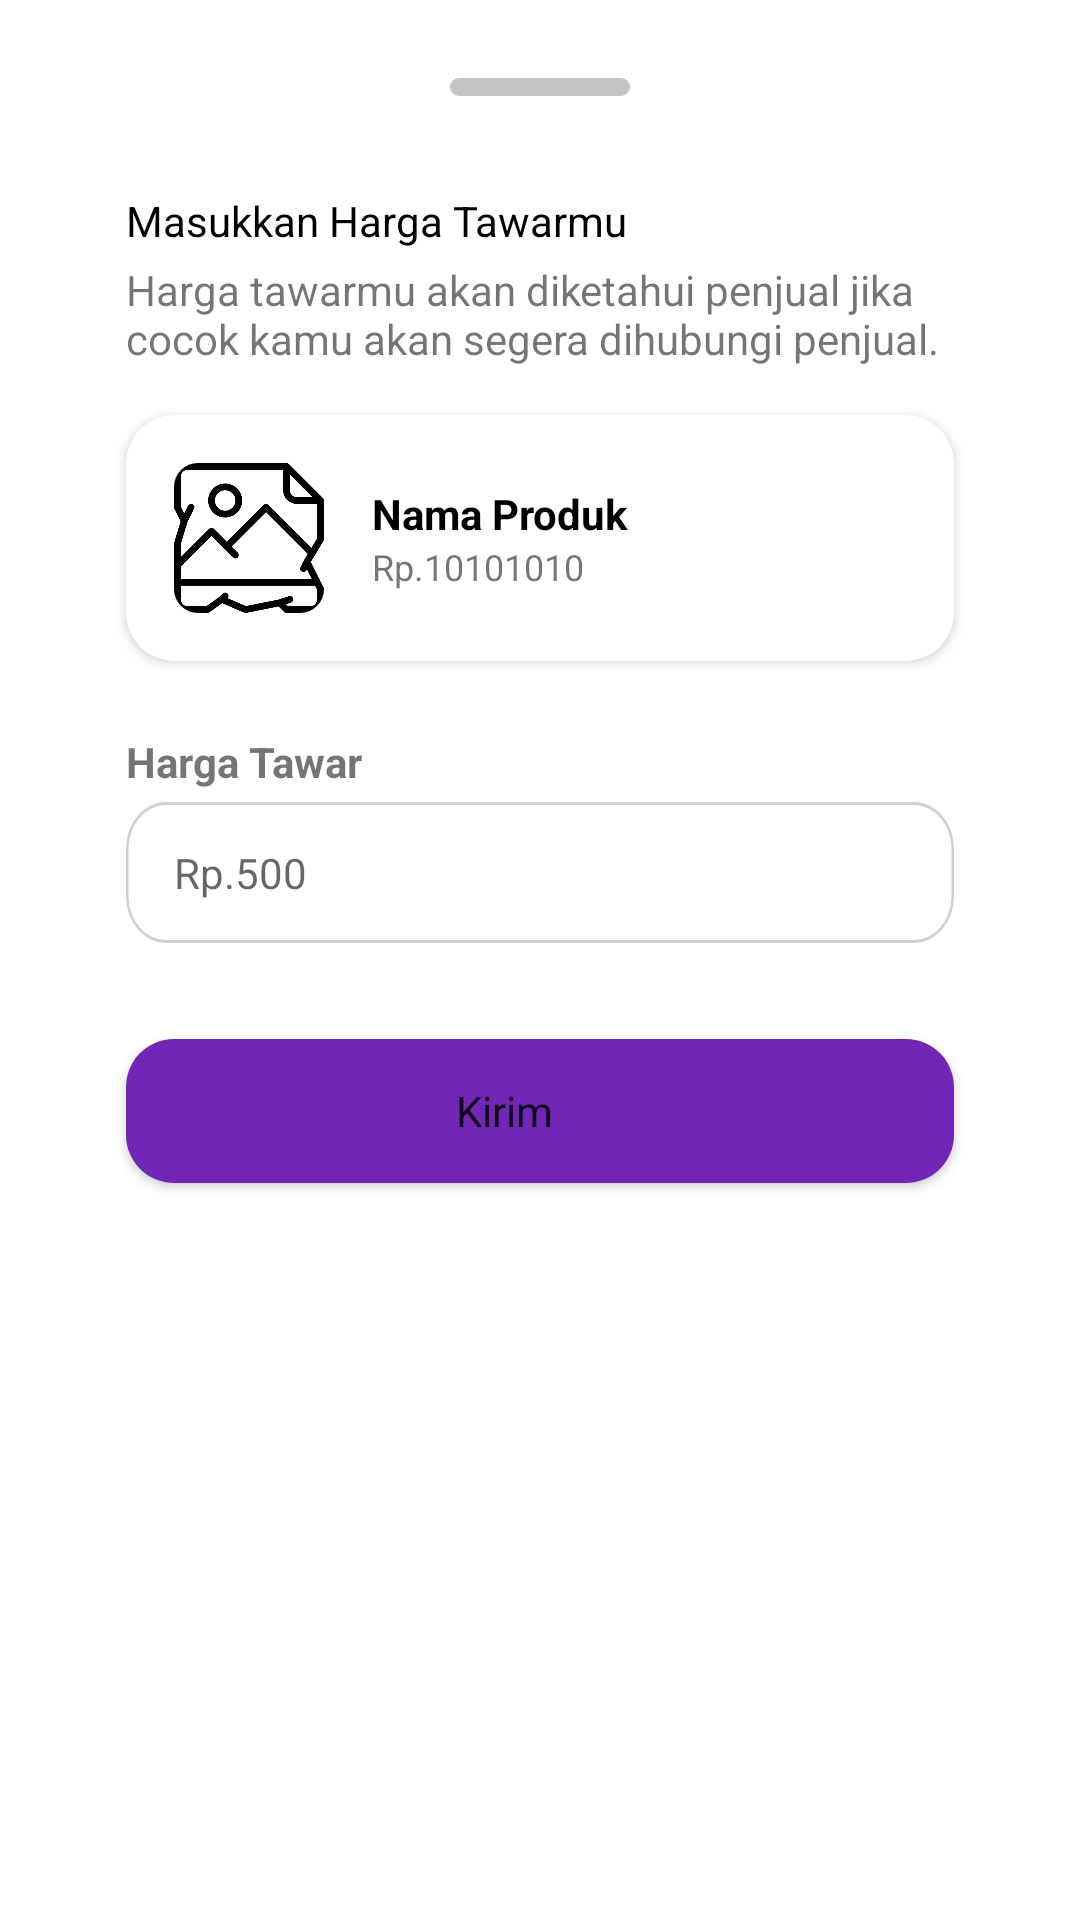

Named icons in this screenshot (1080*1920) and their centers, [x,y]:
photo: [249,538]
